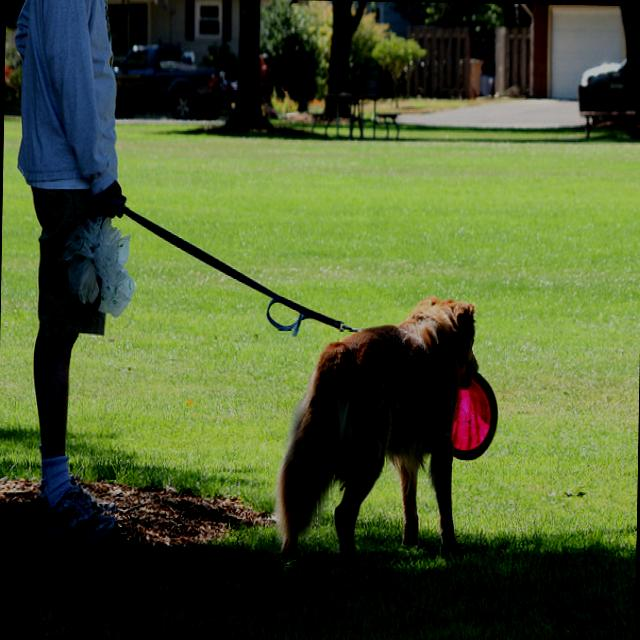Vehicle: (115, 45, 220, 122), (579, 54, 627, 86)
